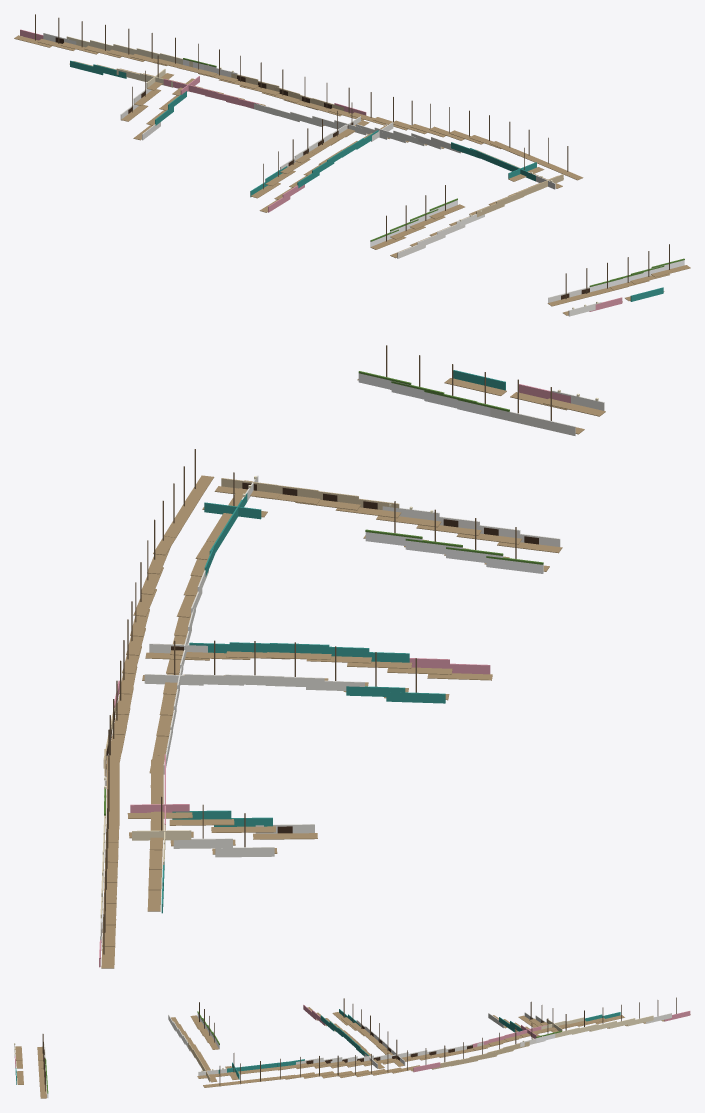
Rendered from noord_res_-25_-21.glb.
3 renders of one model, top to bottom at view 1: azimuth 30°, elevation 25°; view 2: azimuth 150°, elevation 25°; view 3: azimuth 270°, elevation 25°, orthographic. The views are drawn at different scales.
Visible parts, largest first — view 1: noord_res_-25_-21_lod0; view 2: noord_res_-25_-21_lod0; view 3: noord_res_-25_-21_lod0.
Part boxes in pixels (x1,y1,x2,y2): noord_res_-25_-21_lod0: [14, 14, 690, 316]; noord_res_-25_-21_lod0: [99, 345, 605, 968]; noord_res_-25_-21_lod0: [14, 997, 690, 1098].
Size of what is drawn, in the model's own units: 87.54 by 19.12 by 252.
